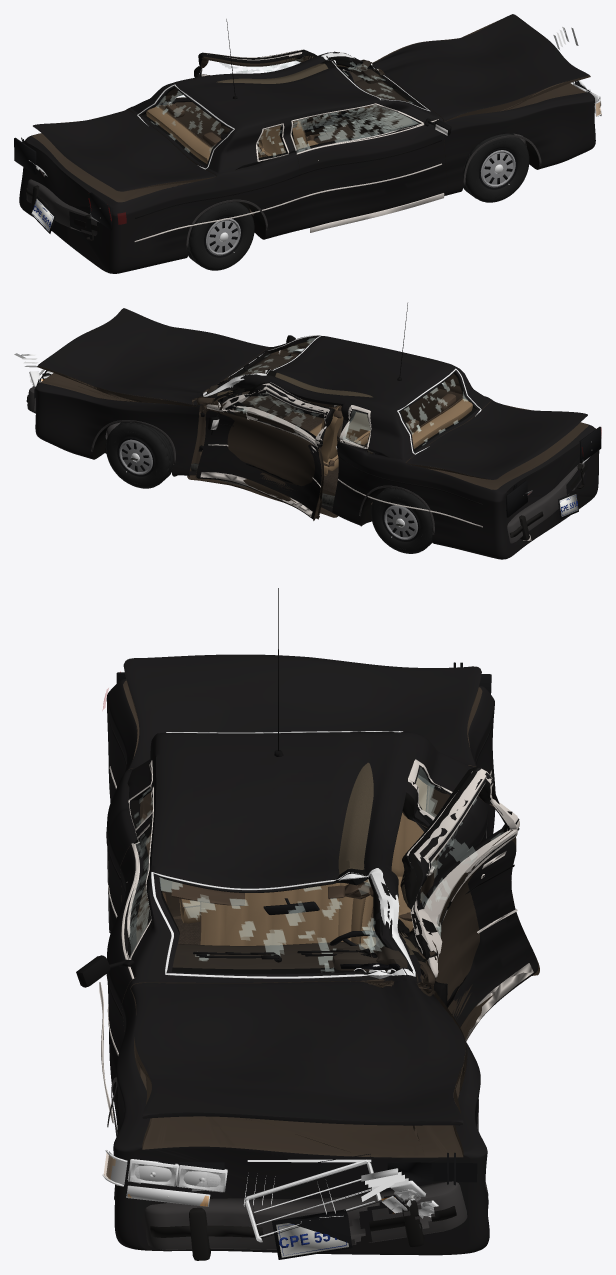
File: coupe84_side_d2_lod1.glb
3 views of the same model, one above another, from view 1: azimuth 30°, elevation 25°; view 2: azimuth 150°, elevation 25°; view 3: azimuth 270°, elevation 25° (orthographic). The views are drawn at different scales.
Parts seen in each view (by area): view 1: Body, Hood, Door_FR, Trunk, Interior, Wheel_RR_mesh, Wheel_FR_mesh, Glass_FR, Trim_FR, Ends, Glass, Trim (+4 smaller); view 2: Body, Hood, Door_FL, Trunk, Interior, Wheel_FL_mesh, Wheel_RL_mesh, Trim_FL, Glass, Trim, Ends, Bumper_R (+2 smaller); view 3: Body, Hood, Trunk, Interior, Door_FL, Ends, Bumper_F, Glass, Trim_FL, Door_FR, Trim, Trim_FR (+3 smaller).
Part boxes in pixels (x1=…): Body: x1=19, y1=51, x2=595, y2=273; Hood: x1=370, y1=14, x2=590, y2=121; Door_FR: x1=290, y1=103, x2=447, y2=229; Trunk: x1=33, y1=109, x2=216, y2=191; Interior: x1=146, y1=60, x2=416, y2=163; Wheel_RR_mesh: x1=188, y1=202, x2=254, y2=270; Wheel_FR_mesh: x1=463, y1=133, x2=529, y2=202; Glass_FR: x1=290, y1=103, x2=420, y2=154; Trim_FR: x1=290, y1=103, x2=451, y2=232; Ends: x1=14, y1=27, x2=601, y2=233; Glass: x1=137, y1=52, x2=430, y2=169; Trim: x1=134, y1=19, x2=541, y2=249; Body: x1=35, y1=335, x2=599, y2=559; Hood: x1=37, y1=308, x2=269, y2=406; Door_FL: x1=195, y1=382, x2=334, y2=520; Trunk: x1=406, y1=400, x2=587, y2=479; Interior: x1=207, y1=354, x2=472, y2=475; Wheel_FL_mesh: x1=105, y1=422, x2=173, y2=488; Wheel_RL_mesh: x1=371, y1=488, x2=432, y2=553; Trim_FL: x1=200, y1=382, x2=329, y2=516; Glass: x1=203, y1=335, x2=481, y2=454; Trim: x1=91, y1=303, x2=482, y2=534; Ends: x1=14, y1=353, x2=601, y2=519; Bumper_R: x1=507, y1=462, x2=587, y2=543; Body: x1=106, y1=679, x2=495, y2=1255; Hood: x1=131, y1=978, x2=465, y2=1125; Trunk: x1=123, y1=654, x2=481, y2=769; Interior: x1=171, y1=777, x2=429, y2=972; Door_FL: x1=400, y1=766, x2=539, y2=1041; Ends: x1=102, y1=662, x2=491, y2=1259; Bumper_F: x1=144, y1=1181, x2=467, y2=1260; Glass: x1=128, y1=731, x2=437, y2=978; Trim_FL: x1=406, y1=768, x2=533, y2=1040; Door_FR: x1=107, y1=786, x2=154, y2=1115; Trim: x1=106, y1=588, x2=492, y2=1199; Trim_FR: x1=76, y1=786, x2=167, y2=1123.
Size of the model in its own units: 5.52 by 2.05 by 2.07.
Materials: 34 (5 with a texture image).
